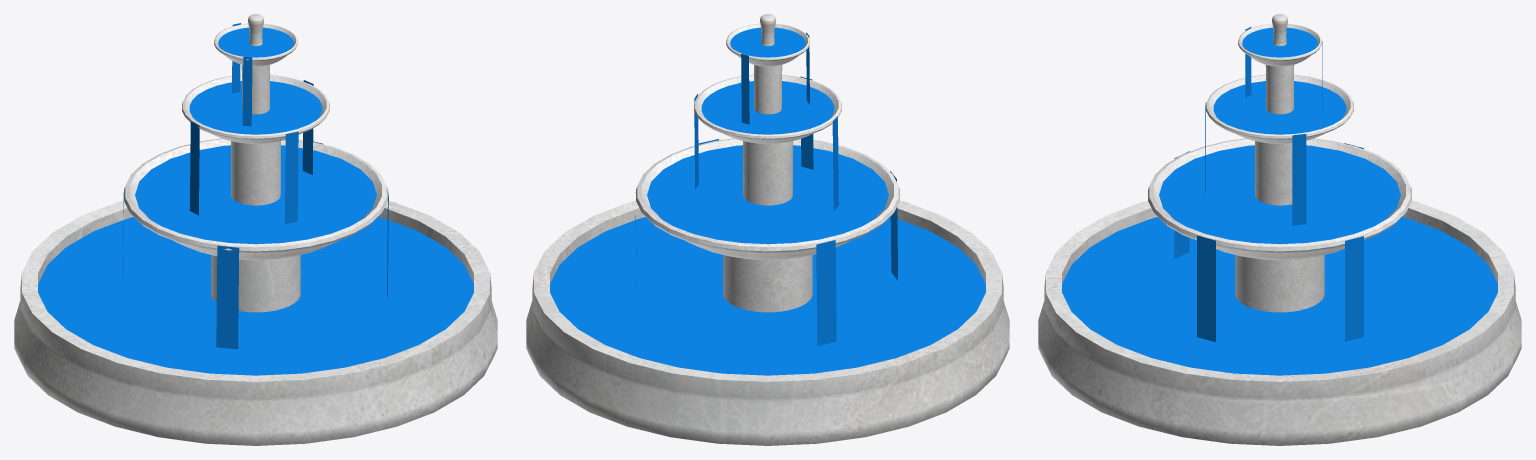
File: Fountain.fbx
The picture shows the model from 3 angles, left to right: view 1: azimuth 30°, elevation 25°; view 2: azimuth 150°, elevation 25°; view 3: azimuth 270°, elevation 25°; orthographic projection.
Parts seen in each view (by area): view 1: Fountain, Water_Plain1, Water_Plain2, Water_Plain3, Water_Stream1, Water_Plain4, Water_Stream7, Water_Stream5, Water_Stream9, Water_Stream6; view 2: Fountain, Water_Plain1, Water_Plain2, Water_Plain3, Water_Stream4, Water_Plain4, Water_Stream8, Water_Stream5, Water_Stream1; view 3: Fountain, Water_Plain1, Water_Plain2, Water_Plain3, Water_Stream3, Water_Stream2, Water_Plain4, Water_Stream6.
Part boxes in pixels (left/top/right/bottom): Fountain: left=14, top=14, right=497, bottom=445; Water_Plain1: left=38, top=217, right=473, bottom=375; Water_Plain2: left=135, top=145, right=376, bottom=244; Water_Plain3: left=189, top=81, right=322, bottom=134; Water_Stream1: left=216, top=245, right=239, bottom=349; Water_Plain4: left=218, top=27, right=293, bottom=57; Water_Stream7: left=285, top=131, right=298, bottom=224; Water_Stream5: left=189, top=121, right=199, bottom=215; Water_Stream9: left=242, top=57, right=252, bottom=126; Water_Stream6: left=302, top=80, right=313, bottom=174; Fountain: left=526, top=14, right=1009, bottom=445; Water_Plain1: left=550, top=217, right=985, bottom=375; Water_Plain2: left=647, top=145, right=888, bottom=244; Water_Plain3: left=701, top=81, right=834, bottom=134; Water_Stream4: left=816, top=240, right=836, bottom=346; Water_Plain4: left=730, top=27, right=805, bottom=57; Water_Stream8: left=741, top=53, right=749, bottom=124; Water_Stream5: left=832, top=116, right=838, bottom=210; Water_Stream1: left=890, top=171, right=898, bottom=280; Fountain: left=1038, top=14, right=1521, bottom=445; Water_Plain1: left=1062, top=217, right=1497, bottom=375; Water_Plain2: left=1159, top=145, right=1400, bottom=244; Water_Plain3: left=1213, top=81, right=1346, bottom=134; Water_Stream3: left=1197, top=235, right=1215, bottom=341; Water_Stream2: left=1345, top=236, right=1363, bottom=341; Water_Plain4: left=1242, top=27, right=1317, bottom=57; Water_Stream6: left=1292, top=134, right=1306, bottom=225.
Size of the model in its own units: 0.2173 by 0.1621 by 0.2161.
2 materials, 2 textured.
